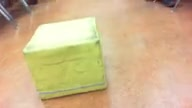cube: (22, 16, 107, 100)
